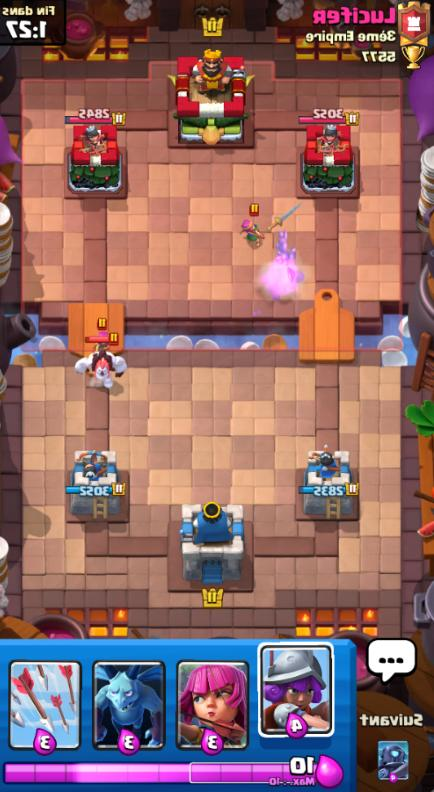archere: (240, 219, 263, 245)
